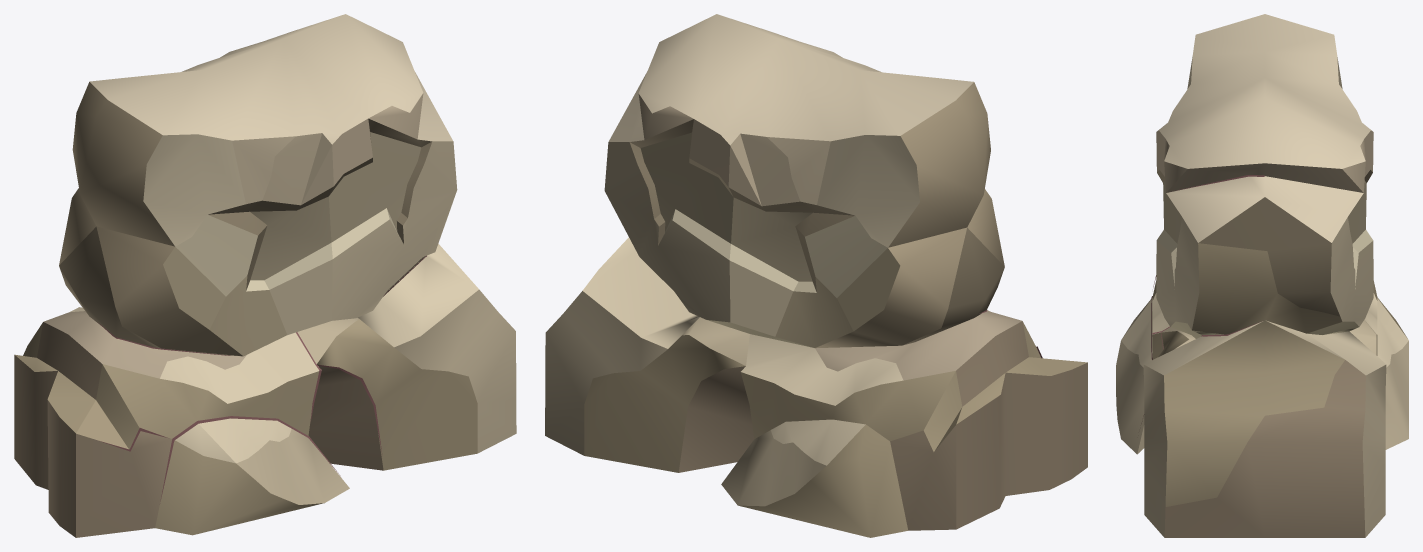
File: Mesh_Adventure_Forest_StoneSigns_SM.fbx
3 views of the same model, side by side, from view 1: azimuth 30°, elevation 25°; view 2: azimuth 150°, elevation 25°; view 3: azimuth 270°, elevation 25° (orthographic). The views are drawn at different scales.
Visible parts, largest first — view 1: Mesh_Adventure_Forest_StoneSigns; view 2: Mesh_Adventure_Forest_StoneSigns; view 3: Mesh_Adventure_Forest_StoneSigns.
Boxes of the visible parts, x1,y1,x2,y2 form: Mesh_Adventure_Forest_StoneSigns: (14, 14, 516, 537); Mesh_Adventure_Forest_StoneSigns: (545, 14, 1087, 537); Mesh_Adventure_Forest_StoneSigns: (1116, 14, 1408, 537).
Size of the model in its own units: 79.3 by 70.21 by 48.24.
Materials: 1 (1 with a texture image).
